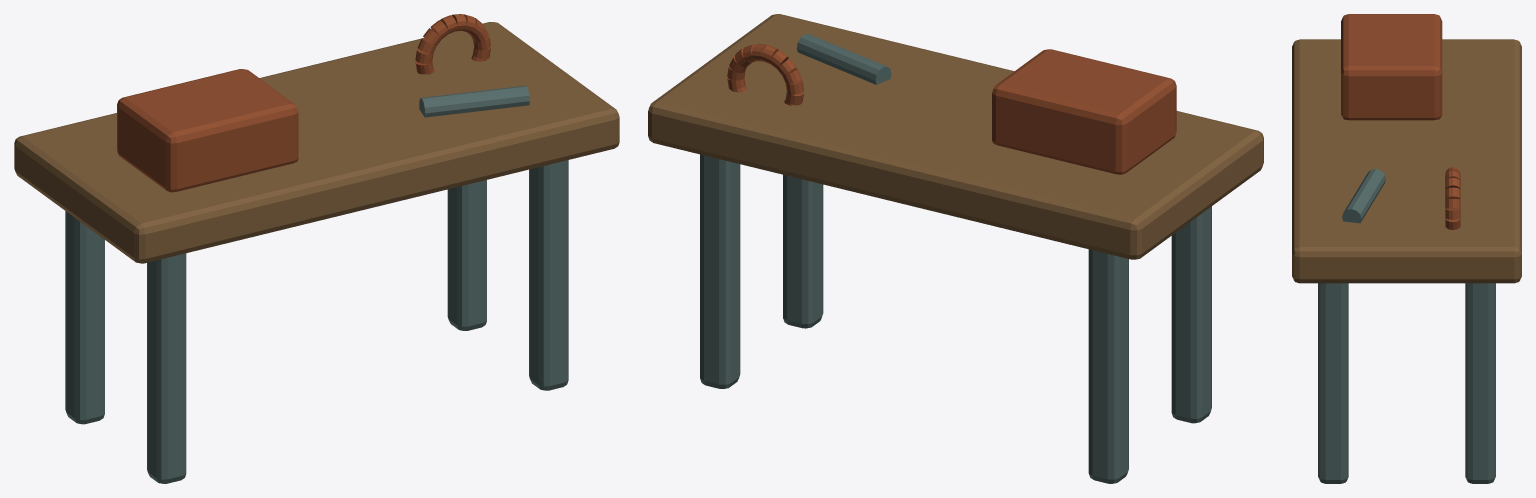
Rendered from workbench.glb.
The picture shows the model from 3 angles, left to right: view 1: azimuth 30°, elevation 25°; view 2: azimuth 150°, elevation 25°; view 3: azimuth 270°, elevation 25°; orthographic projection. The views are drawn at different scales.
Visible parts, largest first — view 1: workbench; view 2: workbench; view 3: workbench.
Part boxes in pixels (x1=…): workbench: x1=14, y1=14, x2=619, y2=483; workbench: x1=648, y1=14, x2=1263, y2=483; workbench: x1=1292, y1=14, x2=1521, y2=483.
Size of the model in its own units: 1.65 by 1.1 by 0.75.
